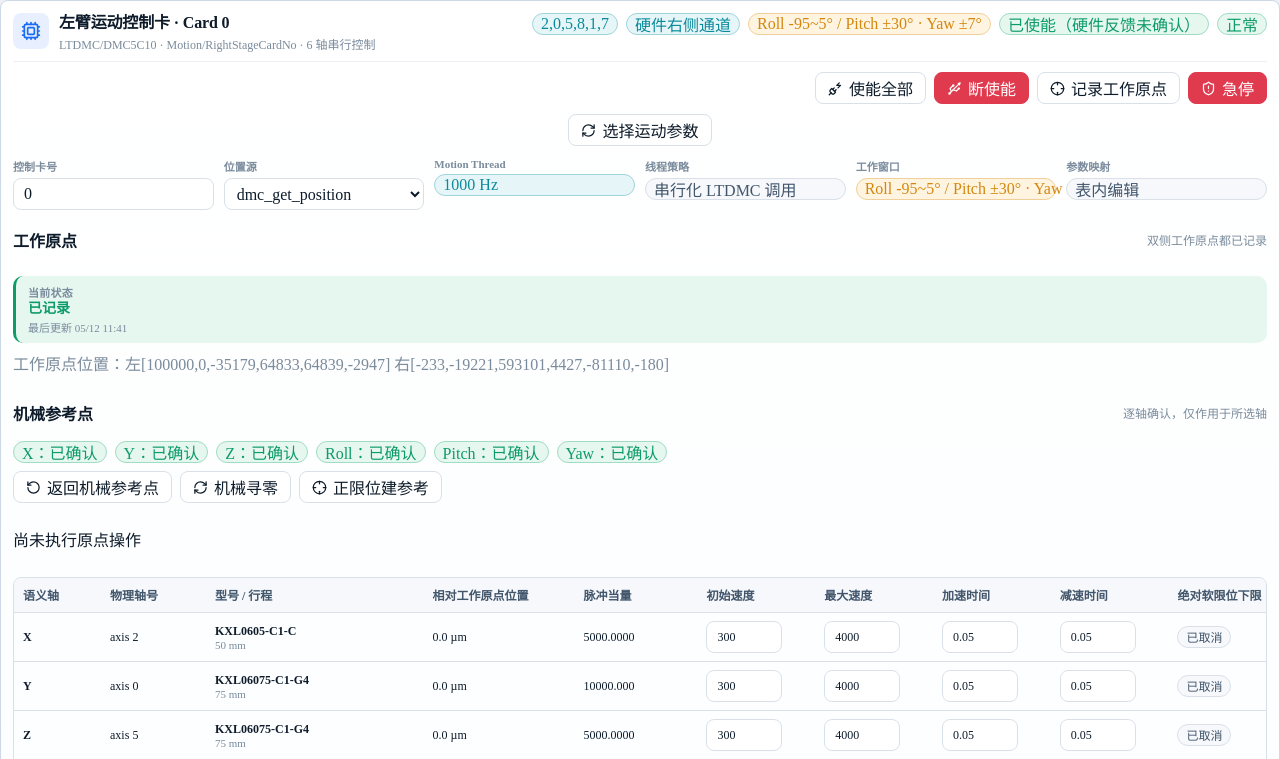
Test: 机械参考点选轴 › 默认不选轴，机械寻零可全选六轴且只在确认后发送
Click the button "机械寻零": x=236, y=487 [180,471,291,503]
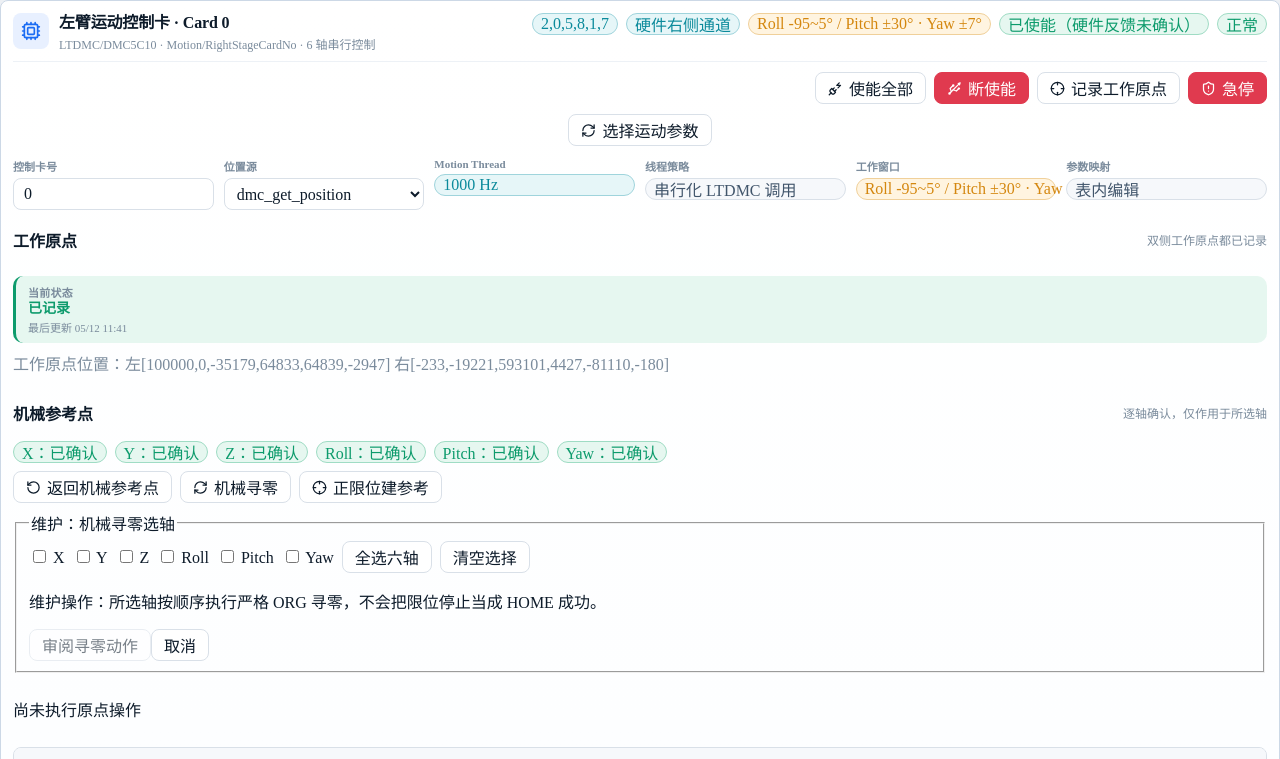
Result: the button "审阅寻零动作" is disabled at [29,629,151,661]
Result: the checkbox labelled "X" is not checked at [33,550,46,563]
Result: the checkbox labelled "Y" is not checked at [77,550,90,563]
Click the button "全选六轴": x=387, y=557 [342,541,432,573]
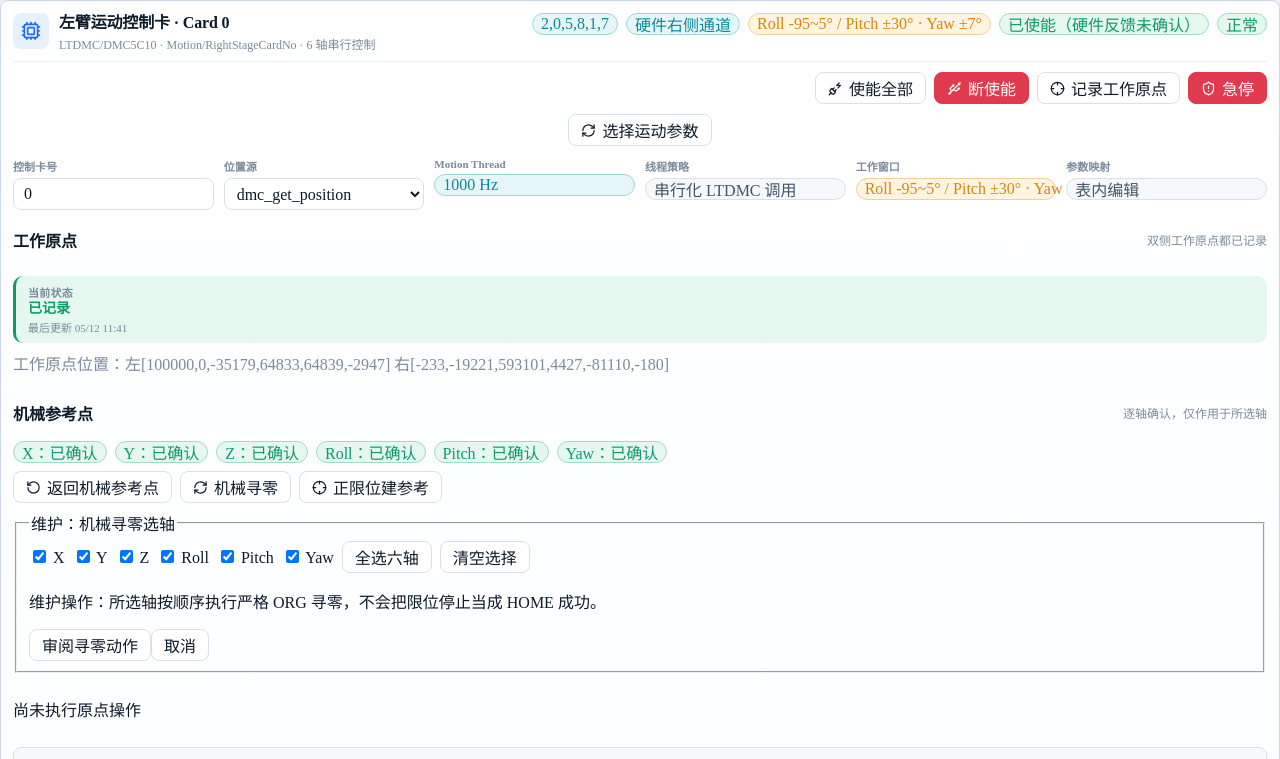
Click the button "审阅寻零动作": x=90, y=645 [29,629,151,661]
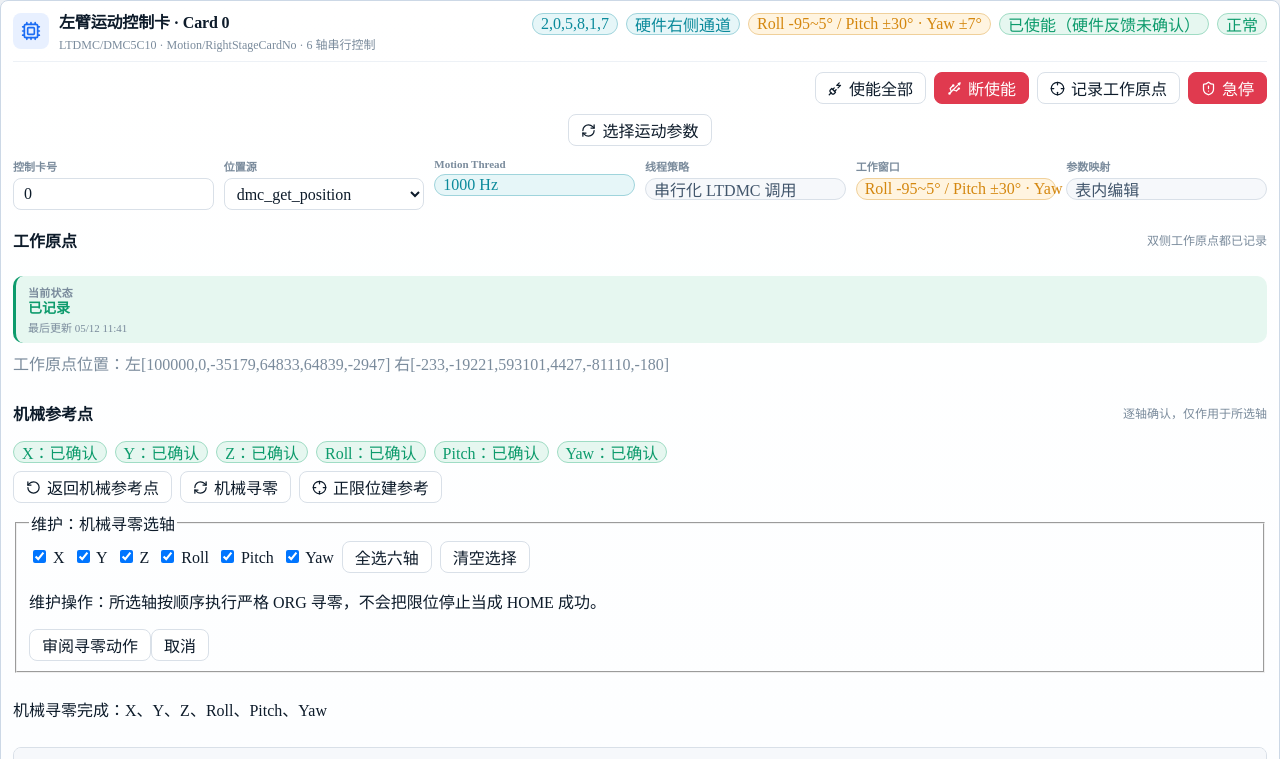
Result: the message named "左臂原点操作状态" shows "机械寻零完成" at [13,702,327,719]
